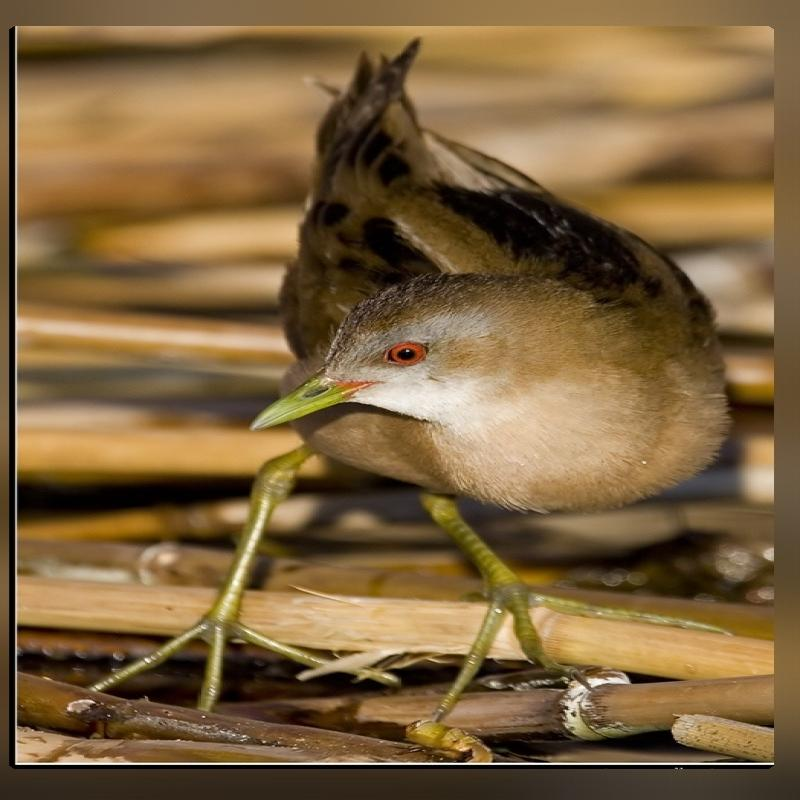little crake: (92, 36, 757, 722)
